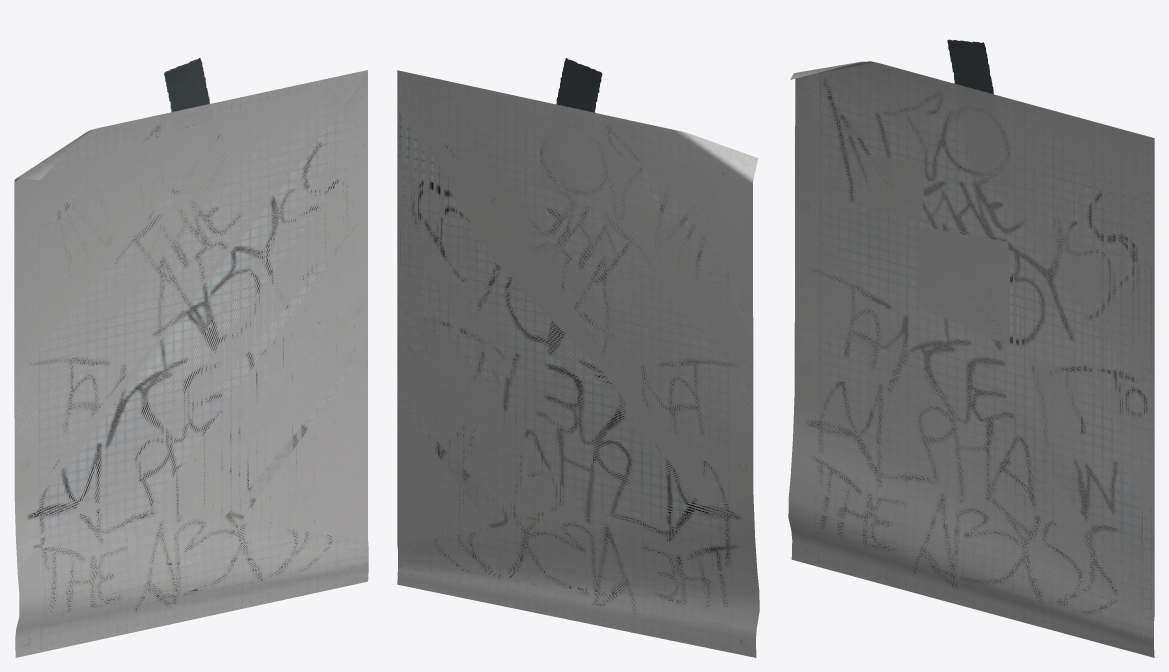
File: notes_herber_into_abyss.dae
3 views of the same model, side by side, from view 1: azimuth 30°, elevation 25°; view 2: azimuth 150°, elevation 25°; view 3: azimuth 330°, elevation 25° (orthographic).
Visible parts, largest first — view 1: into_the_abyss; view 2: into_the_abyss; view 3: into_the_abyss.
Boxes of the visible parts, bbox=[...] form: into_the_abyss: bbox=[14, 58, 368, 657]; into_the_abyss: bbox=[397, 58, 759, 657]; into_the_abyss: bbox=[788, 39, 1154, 657].
Bounding box in the file's own units: 0.2502 × 0.3825 × 0.0191.
